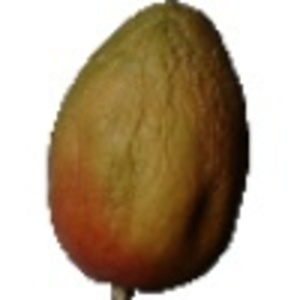mamão: (28, 1, 257, 291)
